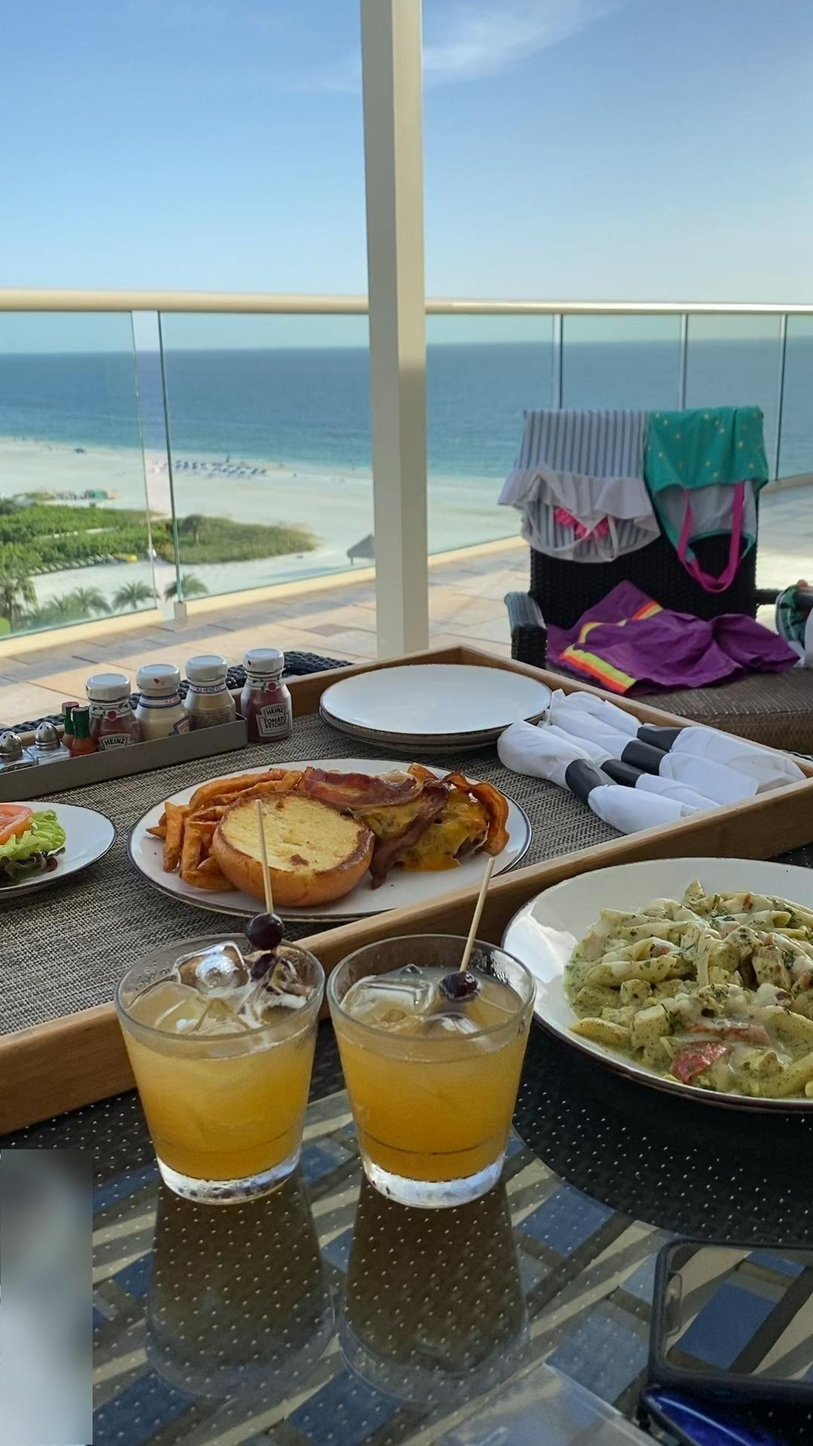glass-normal: (325, 932, 540, 1207), (113, 934, 327, 1204)
